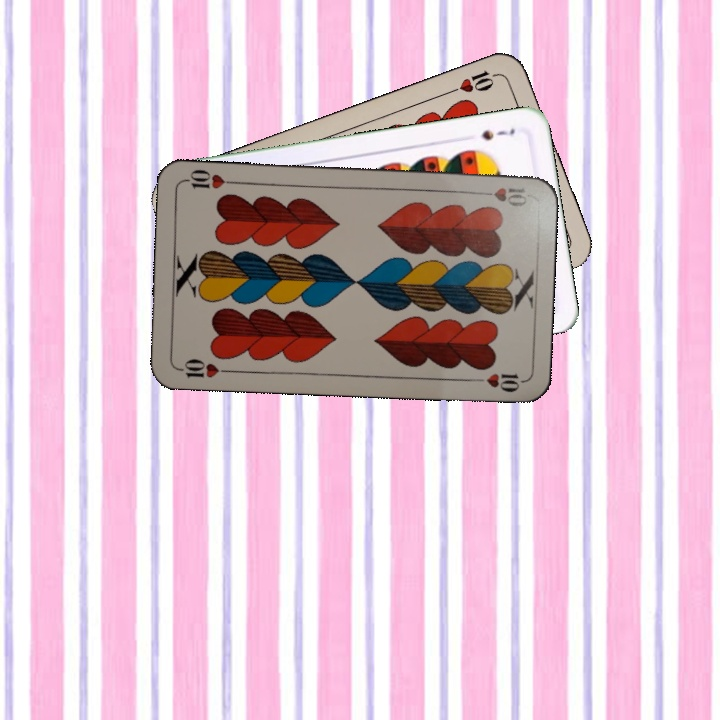H10: (445, 66, 503, 96), (175, 355, 234, 381), (472, 184, 529, 209)
S7: (477, 124, 517, 143)
